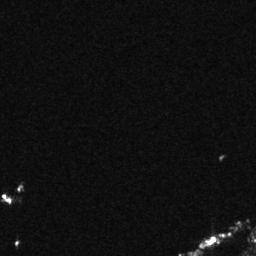ship: (1, 193, 13, 205), (218, 154, 226, 162), (13, 240, 20, 247)
